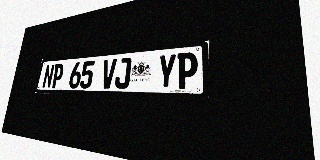5: (79, 61, 95, 88)
6: (68, 62, 83, 88)
J: (114, 57, 132, 89)
N: (42, 64, 55, 88)
P: (176, 52, 198, 89), (51, 63, 65, 88)
V: (100, 59, 117, 89)
Y: (156, 53, 177, 89)
